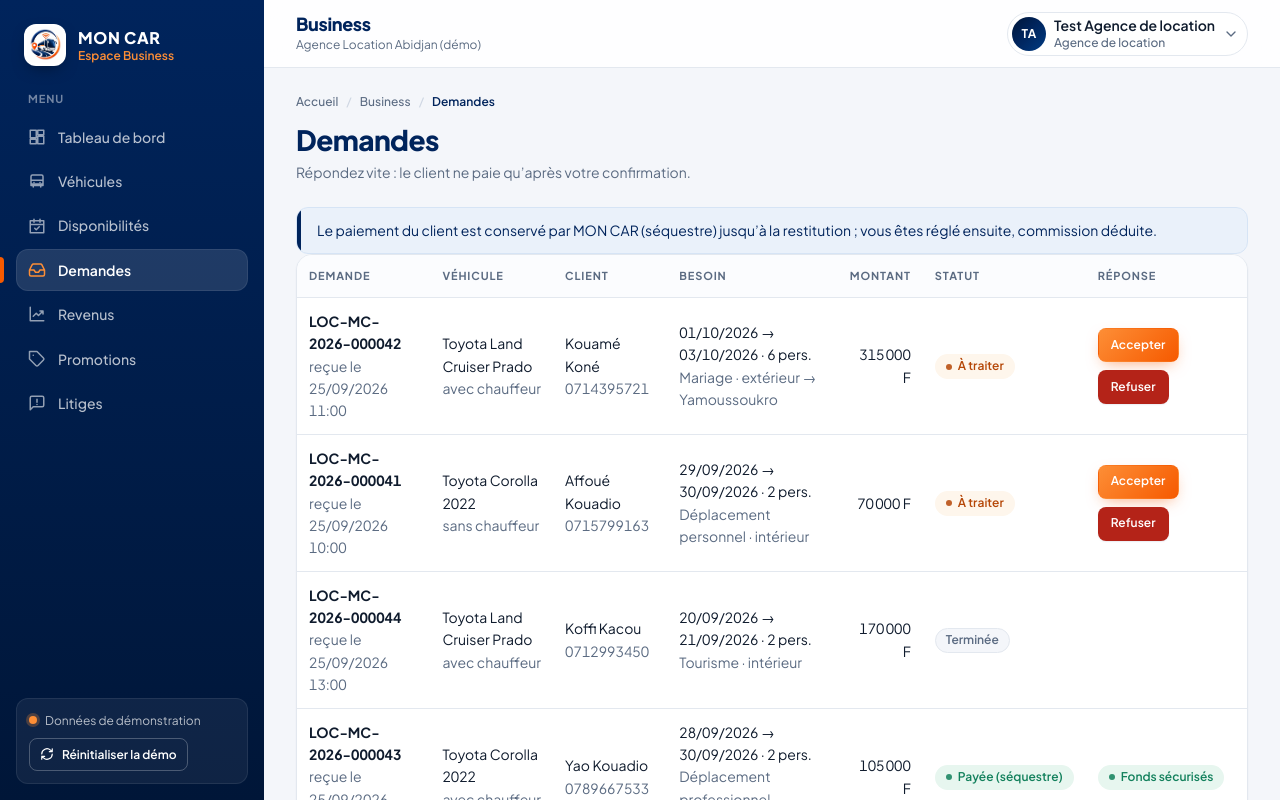
Espace BUSINESS — location et VTC › refuse d’accepter une demande sur une période où le véhicule est déjà loué
Click the button "Accepter" in the row of "LOC-MC-2026-000041" at point(1138, 482), box [1098,465,1178,499]
(page scrolled)
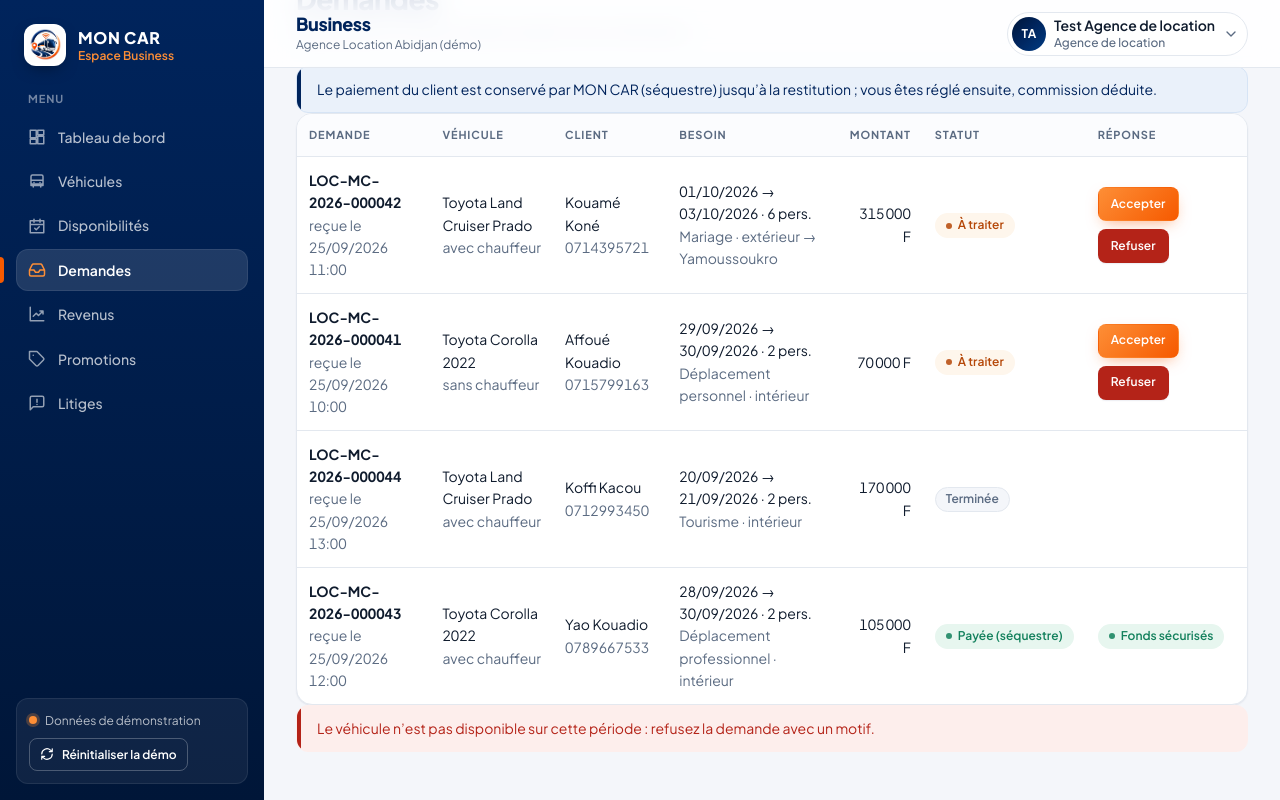
Now the text "n’est pas disponible sur cette période" is shown, box [317,719,875,737]
